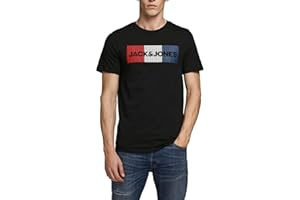design: (124, 43, 180, 64)
